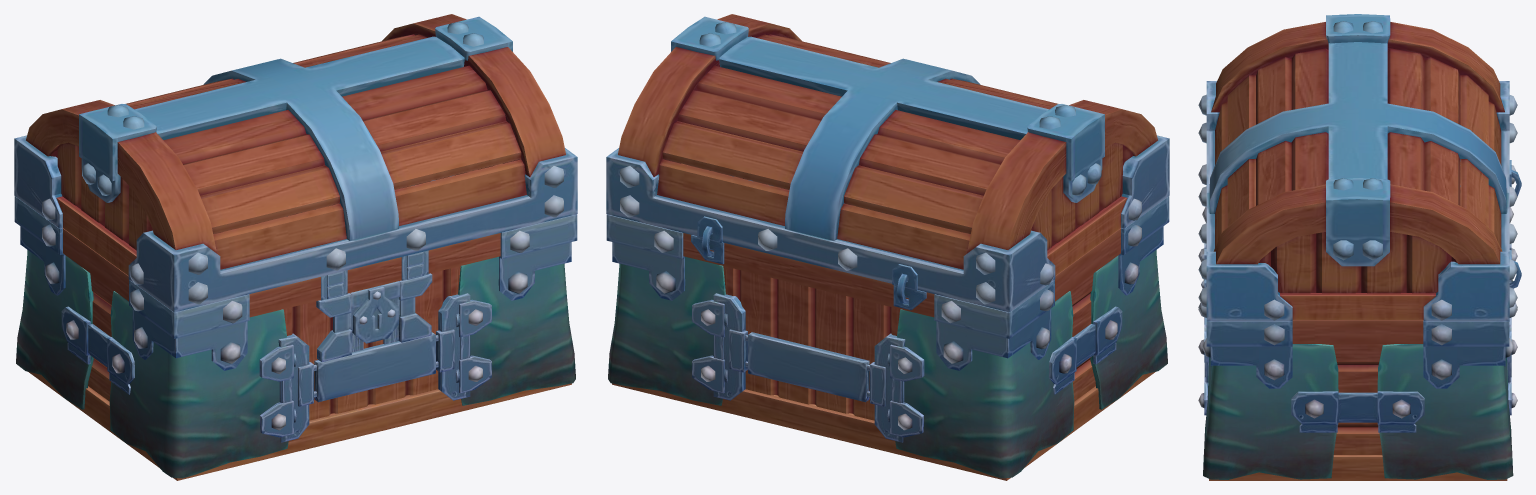
File: chest.glb
The picture shows the model from 3 angles, left to right: view 1: azimuth 30°, elevation 25°; view 2: azimuth 150°, elevation 25°; view 3: azimuth 270°, elevation 25°; orthographic projection. The views are drawn at different scales.
Parts seen in each view (by area): view 1: Top_05_LP, Cloth_01_LP, Top_01_LP, Top_03_LP, Top_04_LP, Bottom_05_LP, Bottom_03_LP, Bottom_01_LP, Details_01_LP, Bottom_06_LP, Bottom_07_LP, Top_06_LP (+2 smaller); view 2: Top_05_LP, Cloth_01_LP, Top_01_LP, Top_03_LP, Top_04_LP, Bottom_03_LP, Bottom_05_LP, Bottom_06_LP, Bottom_01_LP, Details_01_LP, Top_06_LP, Top_02_LP (+2 smaller); view 3: Cloth_01_LP, Top_05_LP, Top_04_LP, Top_01_LP, Top_06_LP, Top_03_LP, Bottom_01_LP, Details_01_LP, Top_02_LP, Bottom_05_LP, Bottom_04_LP, Bottom_06_LP (+2 smaller).
Boxes of the visible parts, x1=… form: Top_05_LP: x1=126, y1=34, x2=526, y2=269; Cloth_01_LP: x1=16, y1=185, x2=575, y2=478; Top_01_LP: x1=135, y1=36, x2=464, y2=240; Top_03_LP: x1=14, y1=135, x2=577, y2=312; Top_04_LP: x1=26, y1=14, x2=565, y2=253; Bottom_05_LP: x1=28, y1=165, x2=571, y2=480; Bottom_03_LP: x1=259, y1=209, x2=491, y2=442; Bottom_01_LP: x1=14, y1=175, x2=577, y2=370; Details_01_LP: x1=42, y1=22, x2=563, y2=430; Bottom_06_LP: x1=88, y1=170, x2=474, y2=420; Bottom_07_LP: x1=316, y1=250, x2=432, y2=361; Top_06_LP: x1=51, y1=142, x2=506, y2=275; Top_05_LP: x1=657, y1=34, x2=1057, y2=269; Cloth_01_LP: x1=608, y1=185, x2=1167, y2=478; Top_01_LP: x1=719, y1=36, x2=1048, y2=240; Top_03_LP: x1=606, y1=135, x2=1169, y2=312; Top_04_LP: x1=618, y1=14, x2=1157, y2=253; Bottom_03_LP: x1=692, y1=209, x2=924, y2=442; Bottom_05_LP: x1=612, y1=165, x2=1155, y2=480; Bottom_06_LP: x1=709, y1=170, x2=1095, y2=420; Bottom_01_LP: x1=606, y1=175, x2=1169, y2=370; Details_01_LP: x1=620, y1=22, x2=1141, y2=430; Top_06_LP: x1=677, y1=142, x2=1132, y2=275; Top_02_LP: x1=671, y1=16, x2=1104, y2=202; Cloth_01_LP: x1=1203, y1=279, x2=1513, y2=479; Top_05_LP: x1=1215, y1=48, x2=1501, y2=247; Top_04_LP: x1=1211, y1=22, x2=1504, y2=264; Top_01_LP: x1=1209, y1=42, x2=1506, y2=213; Top_06_LP: x1=1259, y1=105, x2=1460, y2=319; Top_03_LP: x1=1206, y1=81, x2=1509, y2=321; Bottom_01_LP: x1=1206, y1=185, x2=1509, y2=388; Details_01_LP: x1=1198, y1=21, x2=1517, y2=418; Top_02_LP: x1=1326, y1=14, x2=1390, y2=266; Bottom_05_LP: x1=1209, y1=320, x2=1507, y2=480; Bottom_04_LP: x1=1291, y1=391, x2=1424, y2=432; Bottom_06_LP: x1=1322, y1=162, x2=1460, y2=454.
Size of the model in its own units: 0.8791 by 0.6139 by 0.6212.
Materials: 3 (3 with a texture image).
